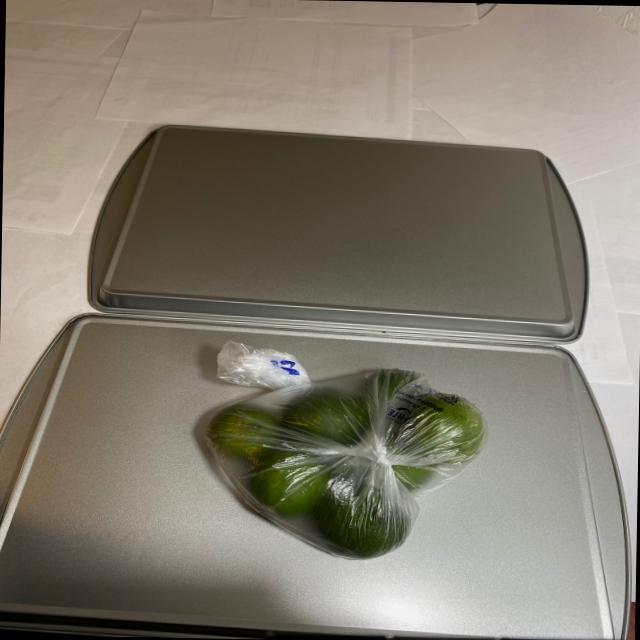lemon: (188, 353, 489, 564)
